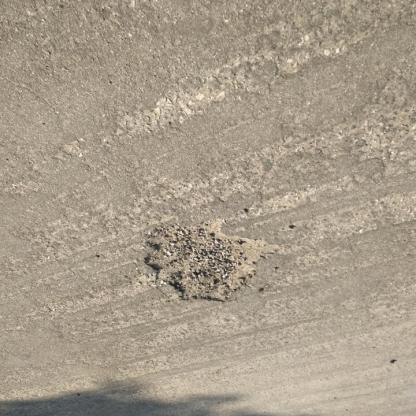pothole: (142, 217, 281, 307)
